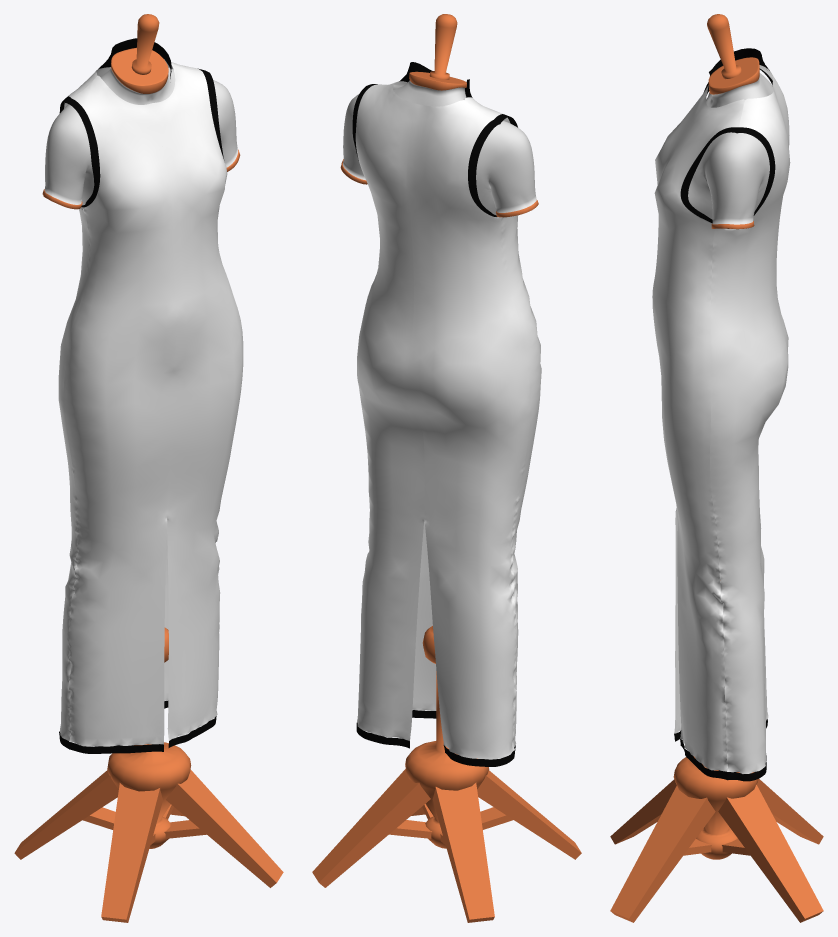
Rendered from manequin2.fbx.
3 renders of one model, left to right at view 1: azimuth 30°, elevation 25°; view 2: azimuth 150°, elevation 25°; view 3: azimuth 270°, elevation 25°, orthographic.
Parts seen in each view (by area): view 1: Cylinder; view 2: Cylinder; view 3: Cylinder.
Boxes of the visible parts, x1,y1,x2,y2 form: Cylinder: [14, 14, 283, 922]; Cylinder: [312, 14, 581, 922]; Cylinder: [610, 14, 823, 922].
Bounding box in the file's own units: 41.7 × 177 × 39.64.
